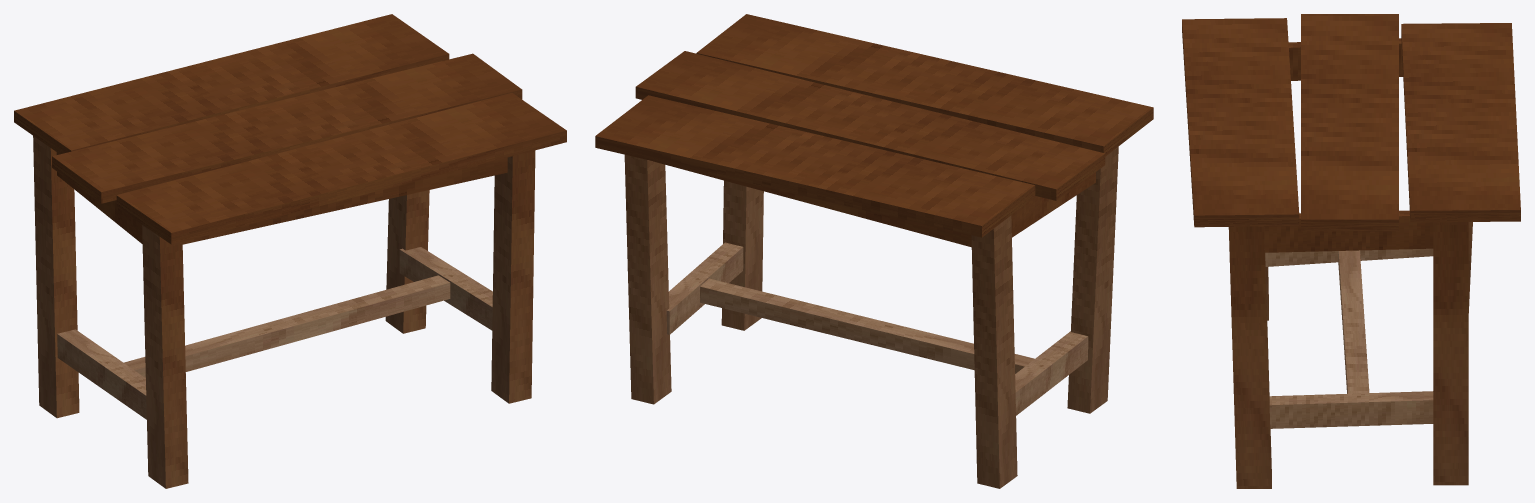
File: Table.glb
The picture shows the model from 3 angles, left to right: view 1: azimuth 30°, elevation 25°; view 2: azimuth 150°, elevation 25°; view 3: azimuth 270°, elevation 25°; orthographic projection.
Parts seen in each view (by area): view 1: Cube.011, Cube.012, Cube.013, Cube.001, Cube.002, Cube, Cube.006, Cube.003, Cube.004, Cube.009, Cube.005, Cube.007; view 2: Cube.013, Cube.011, Cube.012, Cube, Cube.003, Cube.001, Cube.006, Cube.002, Cube.004, Cube.005, Cube.010, Cube.007; view 3: Cube.013, Cube.011, Cube.012, Cube.002, Cube.003, Cube.005, Cube.008, Cube.006, Cube.004, Cube.007.
Part boxes in pixels (<box>): Cube.011: <box>116,93,566,244</box>; Cube.012: <box>52,53,522,203</box>; Cube.013: <box>14,14,449,154</box>; Cube.001: <box>142,224,188,488</box>; Cube.002: <box>491,150,535,403</box>; Cube: <box>33,136,79,418</box>; Cube.006: <box>124,275,450,377</box>; Cube.003: <box>385,190,429,333</box>; Cube.004: <box>57,329,146,419</box>; Cube.009: <box>182,157,507,244</box>; Cube.005: <box>399,247,492,330</box>; Cube.007: <box>56,152,142,243</box>; Cube.013: <box>595,95,1035,237</box>; Cube.011: <box>696,14,1153,156</box>; Cube.012: <box>635,51,1105,200</box>; Cube: <box>971,215,1017,488</box>; Cube.003: <box>624,154,671,404</box>; Cube.001: <box>1067,146,1118,413</box>; Cube.006: <box>700,278,1034,373</box>; Cube.002: <box>721,180,763,330</box>; Cube.004: <box>1015,331,1088,415</box>; Cube.005: <box>666,242,743,334</box>; Cube.010: <box>653,161,971,247</box>; Cube.007: <box>1011,172,1095,237</box>; Cube.013: <box>1401,23,1520,222</box>; Cube.011: <box>1182,18,1299,227</box>; Cube.012: <box>1301,14,1398,231</box>; Cube.002: <box>1228,226,1271,488</box>; Cube.003: <box>1433,222,1468,485</box>; Cube.005: <box>1269,391,1433,428</box>; Cube.008: <box>1264,210,1433,252</box>; Cube.006: <box>1338,250,1369,393</box>; Cube.004: <box>1265,248,1433,266</box>; Cube.007: <box>1288,38,1403,80</box>.
Size of the model in its own units: 4.75 by 3.02 by 3.3.
3 materials, 3 textured.
